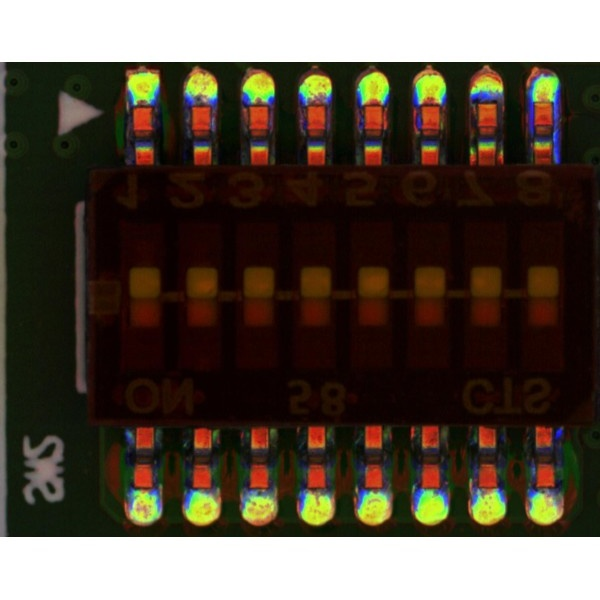Bad_podu: (422, 98, 438, 113), (536, 96, 553, 110), (366, 99, 382, 113)
